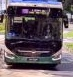bus: (21, 8, 28, 13)
